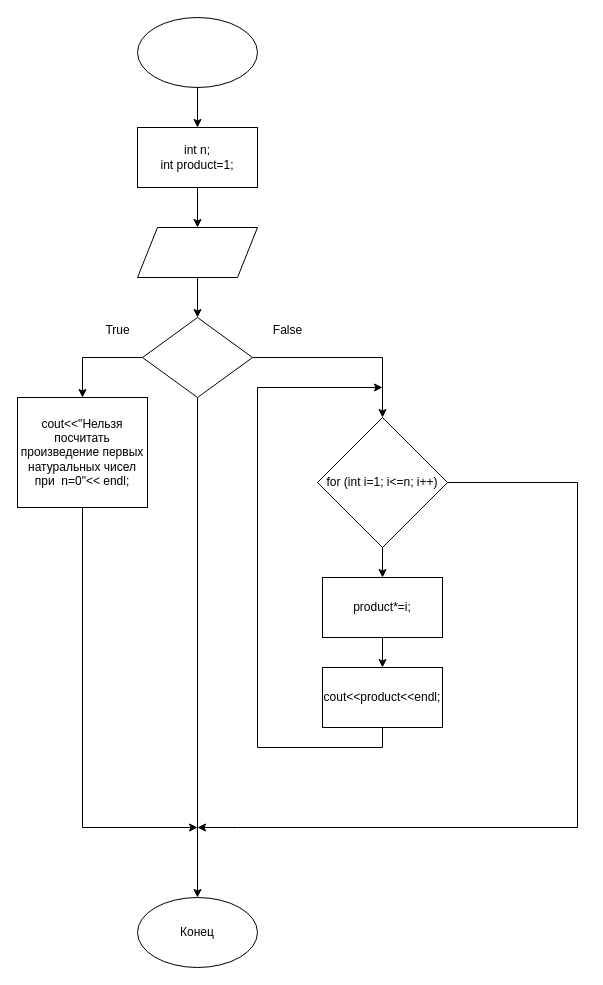
Some shapes in this 603 by 985 pixel diagram are drawn without their labels. Here are the shapes that lost their labels. From the top down, the centre of each, then its label:
At (x=197, y=52): "Начало".
At (x=197, y=252): "cin >>n;".
At (x=197, y=357): "if (n<=0)".
